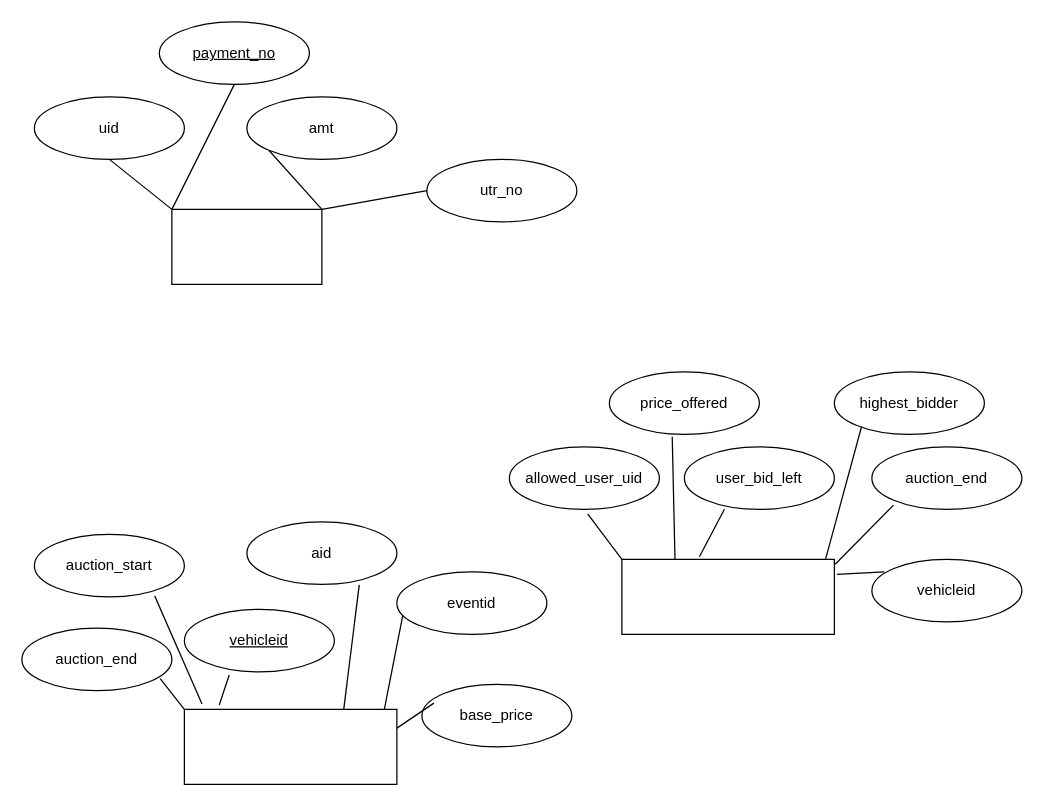
Image size: 1044x806. Some labels were removed from this diagram. Each missing label, with the centre of its shape:
"auction_status_track" goes at (727,596).
"current_auction" goes at (290,746).
"deposite_payment" goes at (246,246).
